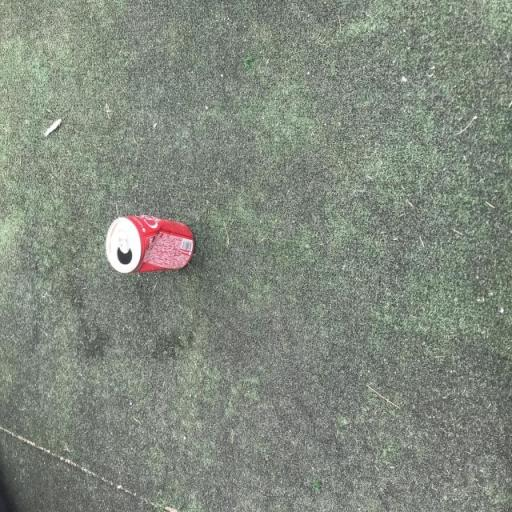metal: (90, 184, 209, 302)
